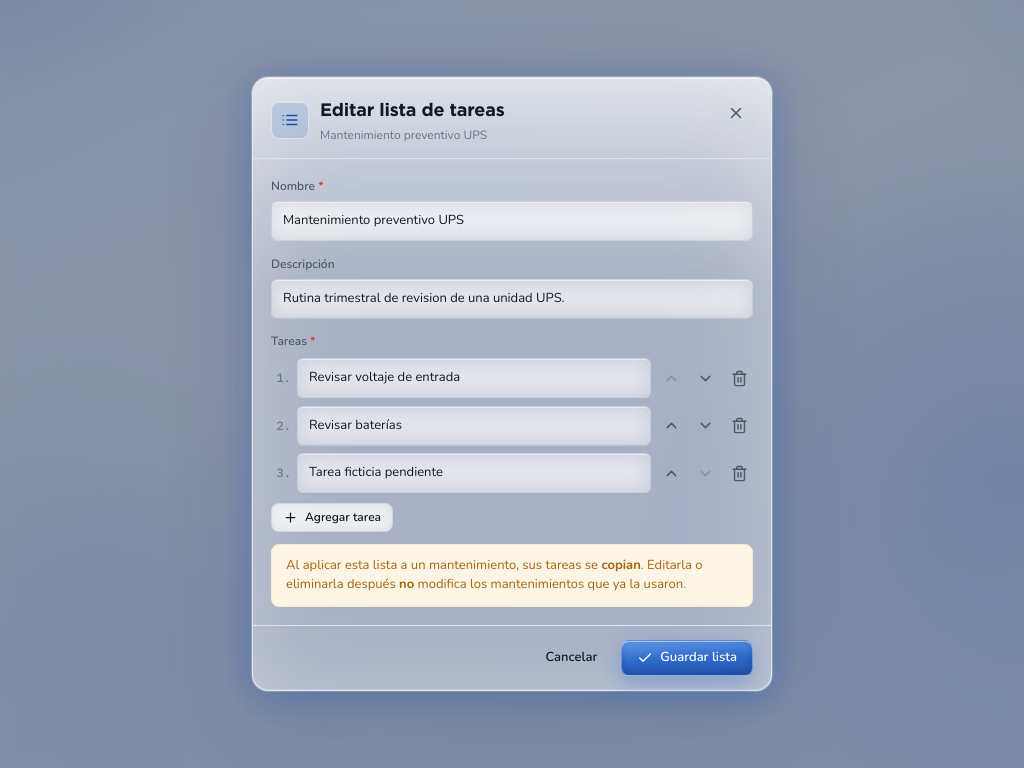
it: ChecklistTemplateFormModal › orden de las tareas › bajar intercambia la tarea con la siguiente
The image size is (1024, 768).
Step 1. Click the 1st button titled "Bajar" → (705, 378), box x1=691 y1=364 x2=719 y2=392
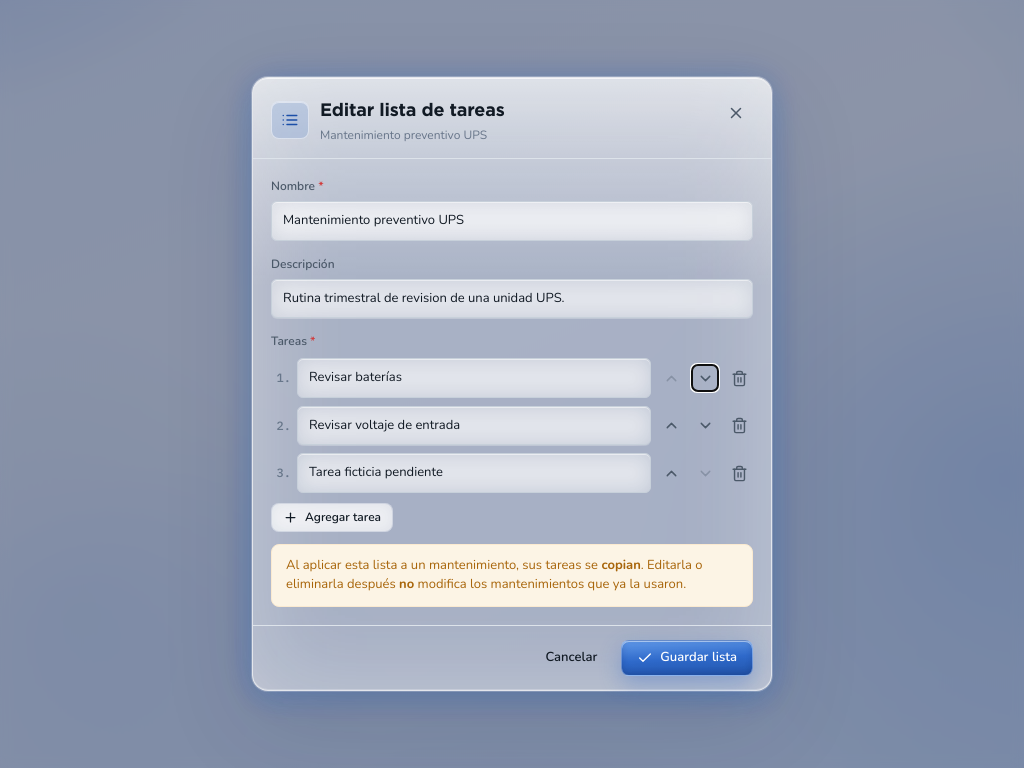
Check: the 1st field with placeholder "Descripción de la tarea" holds "Revisar baterías", box x1=297 y1=358 x2=651 y2=398
Check: the 2nd field with placeholder "Descripción de la tarea" holds "Revisar voltaje de entrada", box x1=297 y1=406 x2=651 y2=445
